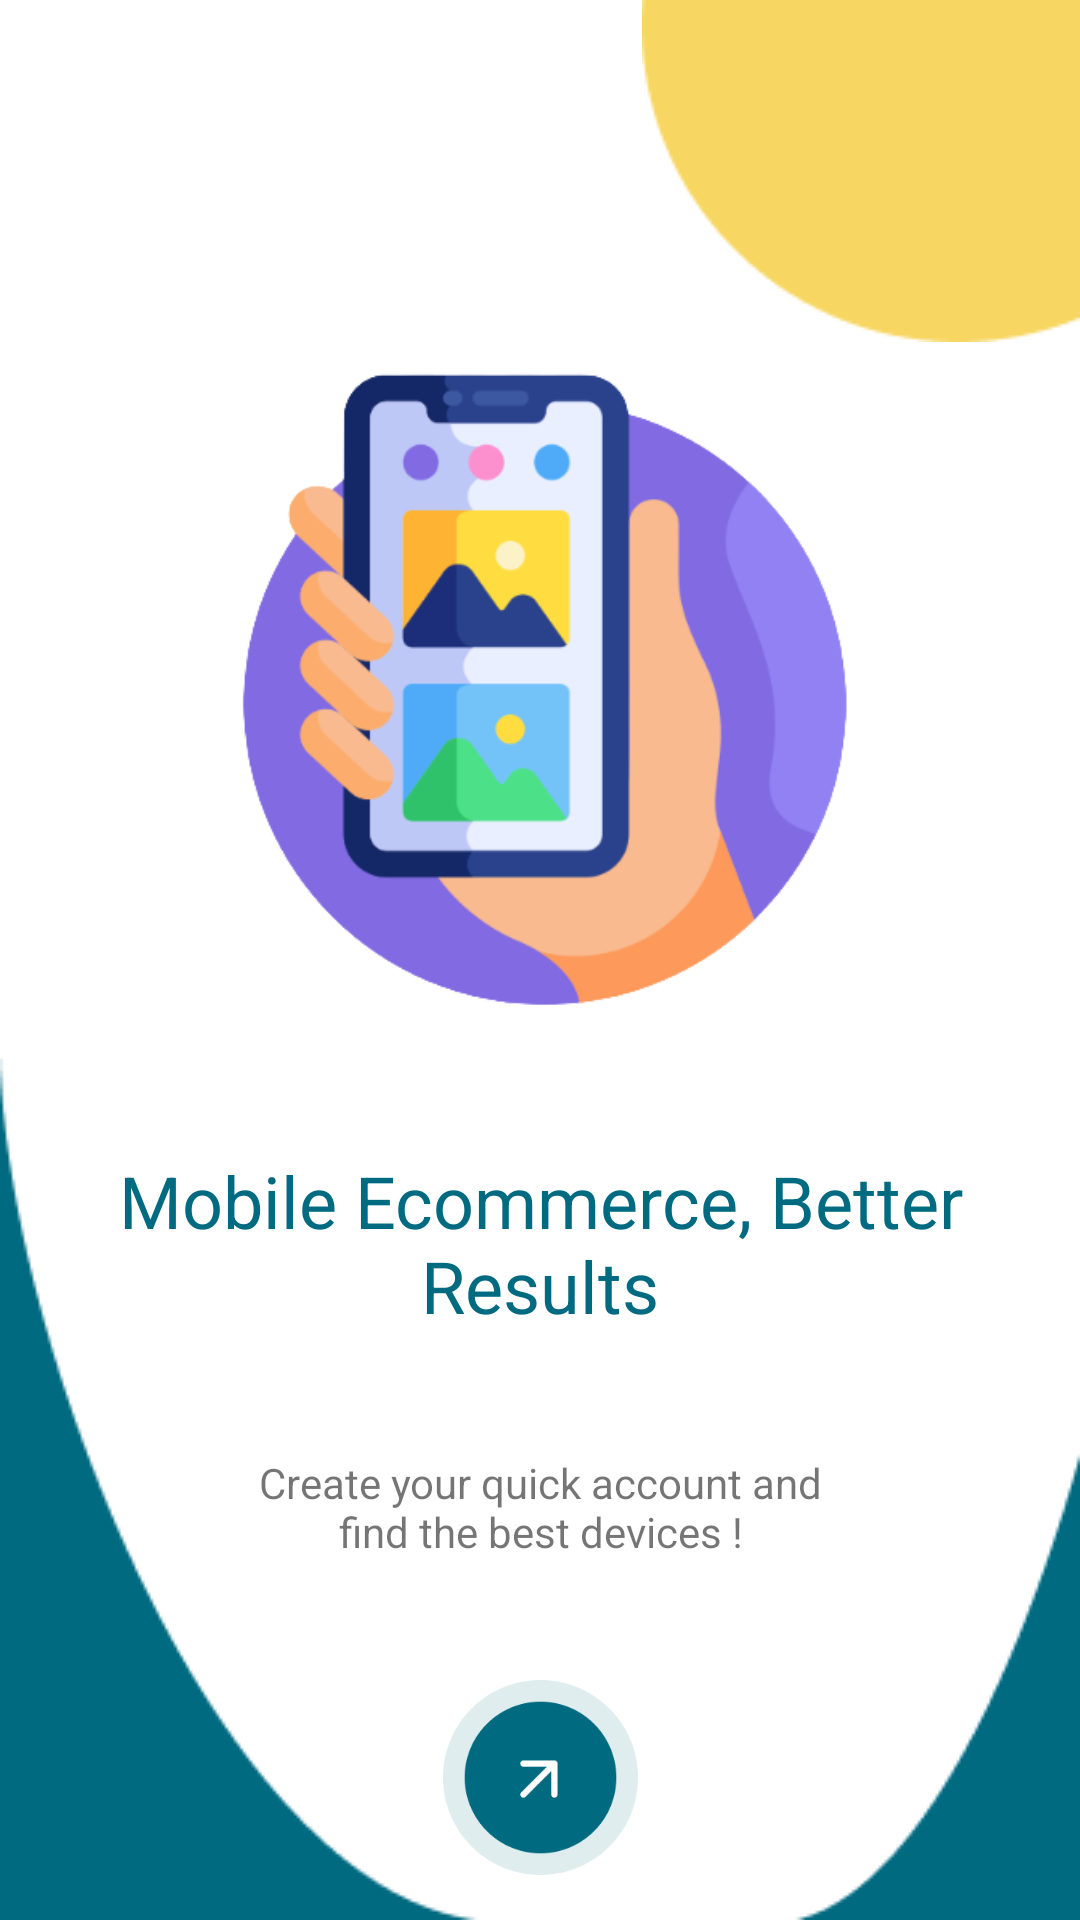

Named icons in this screenshot (1080w x 1920h) and their bounding boxes, {"x1": x1, "y1": y1, "x2": x2, "y2": y2}:
forward: {"x1": 443, "y1": 1680, "x2": 638, "y2": 1875}
